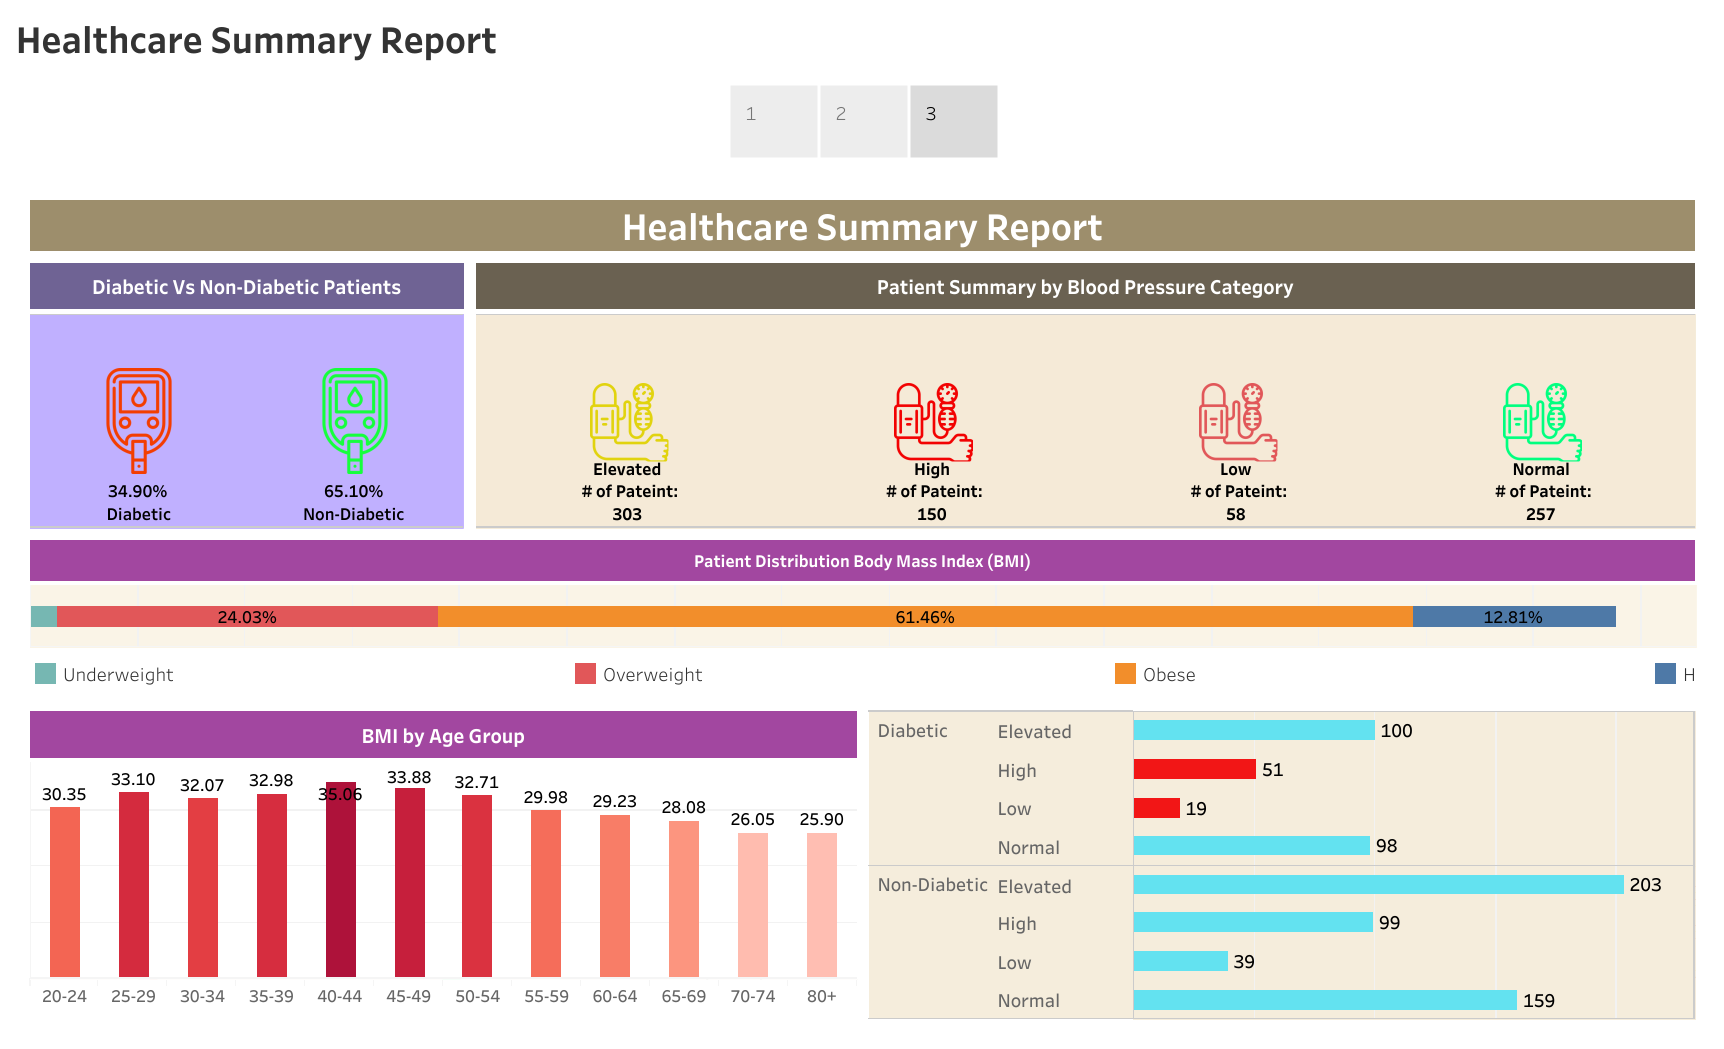

Layout of this report page (visuals, bound fields, positions):
{"tool":"tableau","page":{"name":"Healthcare Summary Report","canvas":[1000,1000],"units":"permille","ordinal":0},"visuals":[{"type":"title","box":[5,9.9,990,70.7]},{"type":"worksheet","title":"Diabetic/Non-Diabetic","mark":"Shape","cols":["Calculation_1365998105982554112"],"box":[5,80.7,262.8,327.5]},{"type":"worksheet","title":"BP","mark":"Shape","cols":["Blood Pressure Systolic"],"box":[267.7,80.7,727.3,327.5]},{"type":"worksheet","title":"BMI Distribution by Count","mark":"Automatic","cols":["ID"],"box":[5,408.2,990,140.2]},{"type":"legend","title":"BMI Distribution by Count","param":"[federated.1xhw8de1vowoyj133ds450aszdal (copy)].[none:Calculation_37379881312435","box":[5,548.4,990,62]},{"type":"worksheet","title":"BMI by Age Group","mark":"Bar","rows":["BMI"],"cols":["Age (bin)"],"box":[5,610.4,495,379.7]},{"type":"worksheet","title":"Quick summary","mark":"Automatic","rows":["Calculation_1365998105982554112","Blood Pressure Systolic"],"cols":["ID"],"box":[500,610.4,495,379.7]}]}

Visuals, with their boxes on the dashboard's canvas, which has no fixed pixel size, in thousandths of its width and height (x1, y1, x2, y2). These are canvas units, not pixel positions in the 1724x1049 screenshot, which may show the page scaled, cropped or inside an application window:
title: region(5, 10, 995, 81)
"Diabetic/Non-Diabetic" worksheet (Shape marks): region(5, 81, 268, 408)
"BP" worksheet (Shape marks): region(268, 81, 995, 408)
"BMI Distribution by Count" worksheet: region(5, 408, 995, 548)
"BMI Distribution by Count" legend: region(5, 548, 995, 610)
"BMI by Age Group" worksheet (Bar marks): region(5, 610, 500, 990)
"Quick summary" worksheet: region(500, 610, 995, 990)
